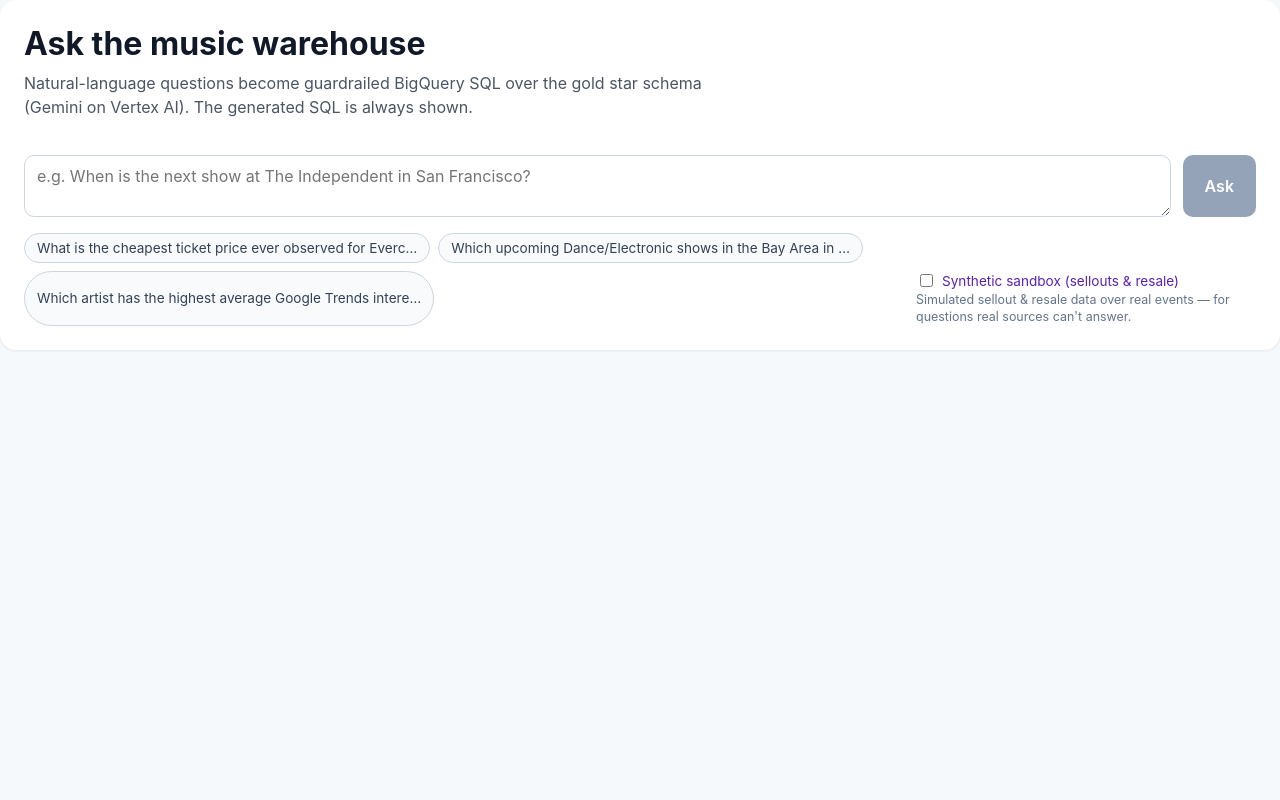
Scenario: AskPanel › shows the generated SQL, answer, rows, and green guardrail badges
Type "Cheapest Everclear ticket?" into the text box named "Question" at (597, 186), box [24, 155, 1171, 217]
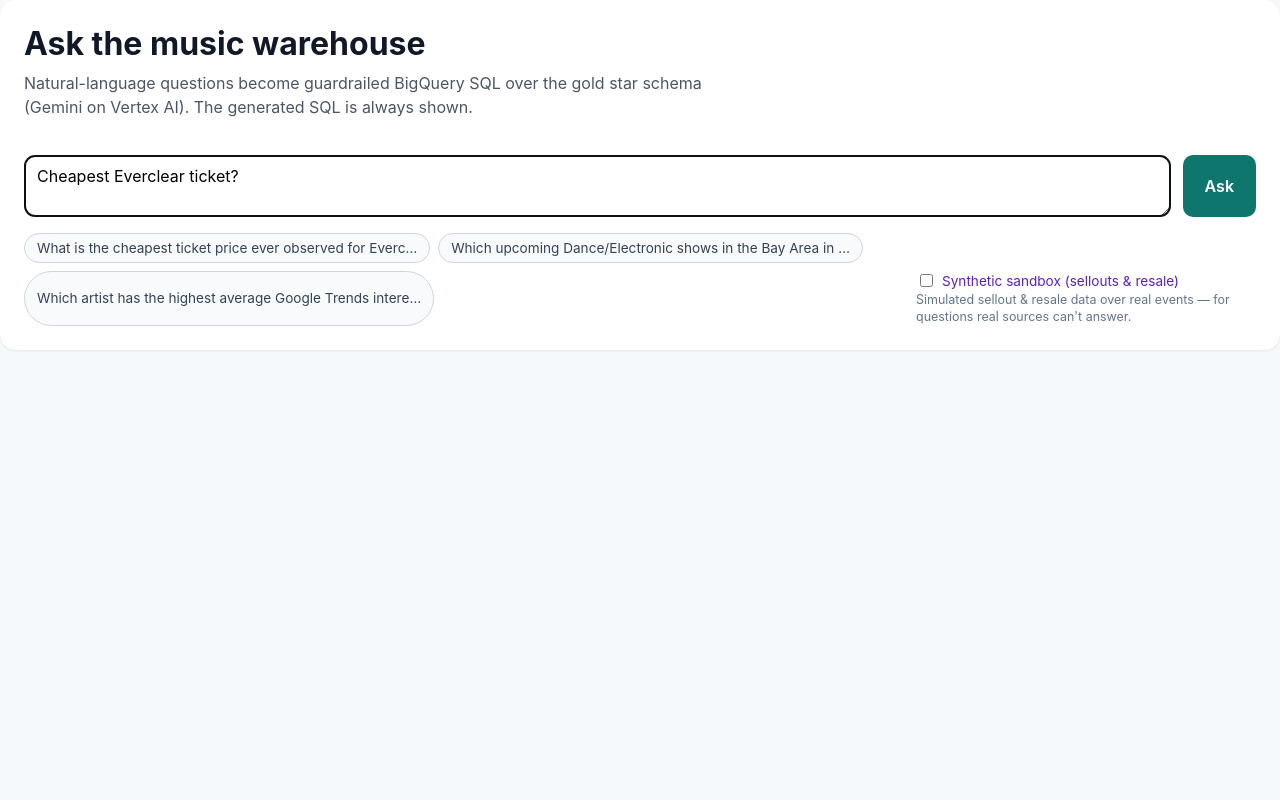
Click the button "Ask" at (1219, 186), box [1183, 155, 1256, 217]
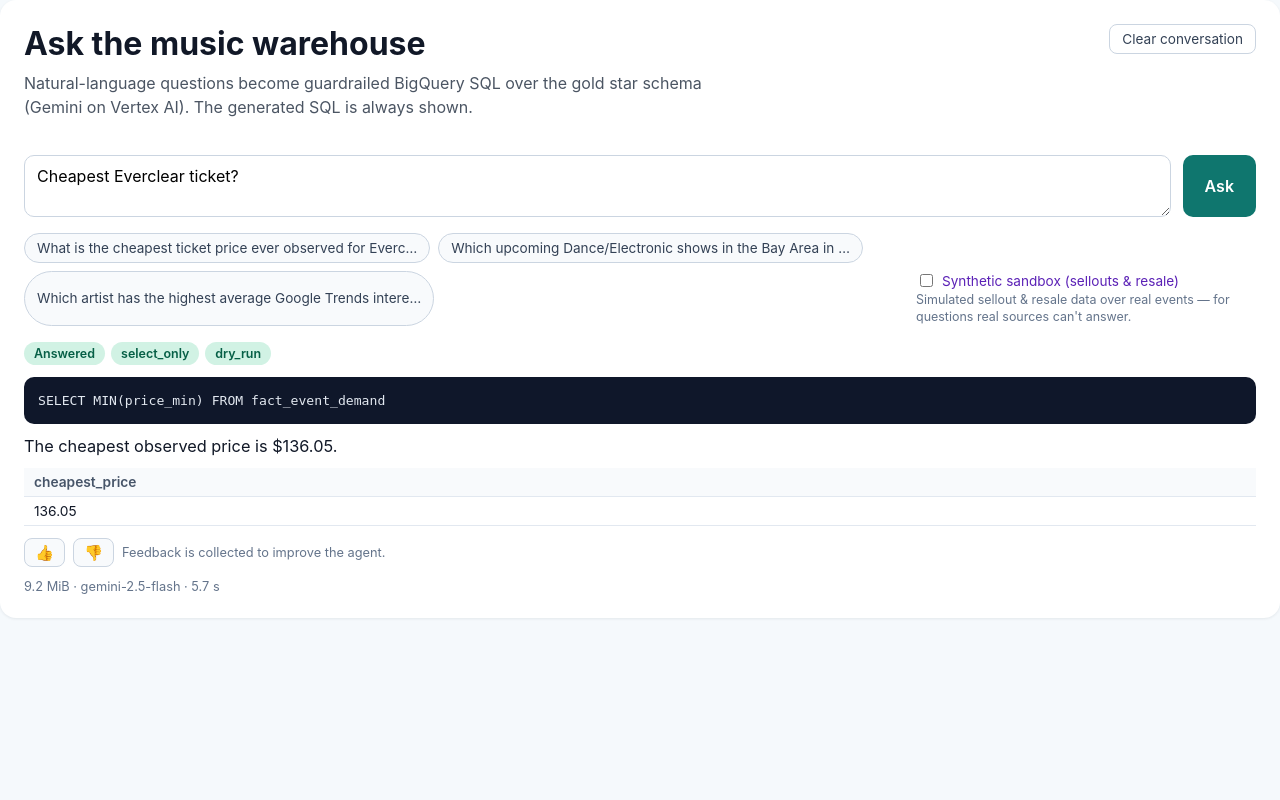
Check: the text named "Generated SQL" reads "SELECT MIN(price_min) FROM fact_event_demand", box [38, 393, 385, 408]
Check: the text "The cheapest observed price is $136.05." is shown, box [24, 436, 337, 456]
Check: the text "select_only" is shown, box [111, 342, 199, 365]
